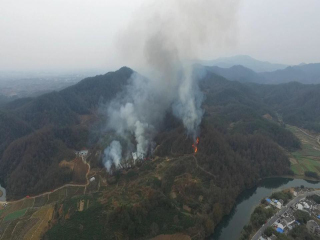smoke: (93, 2, 230, 171)
